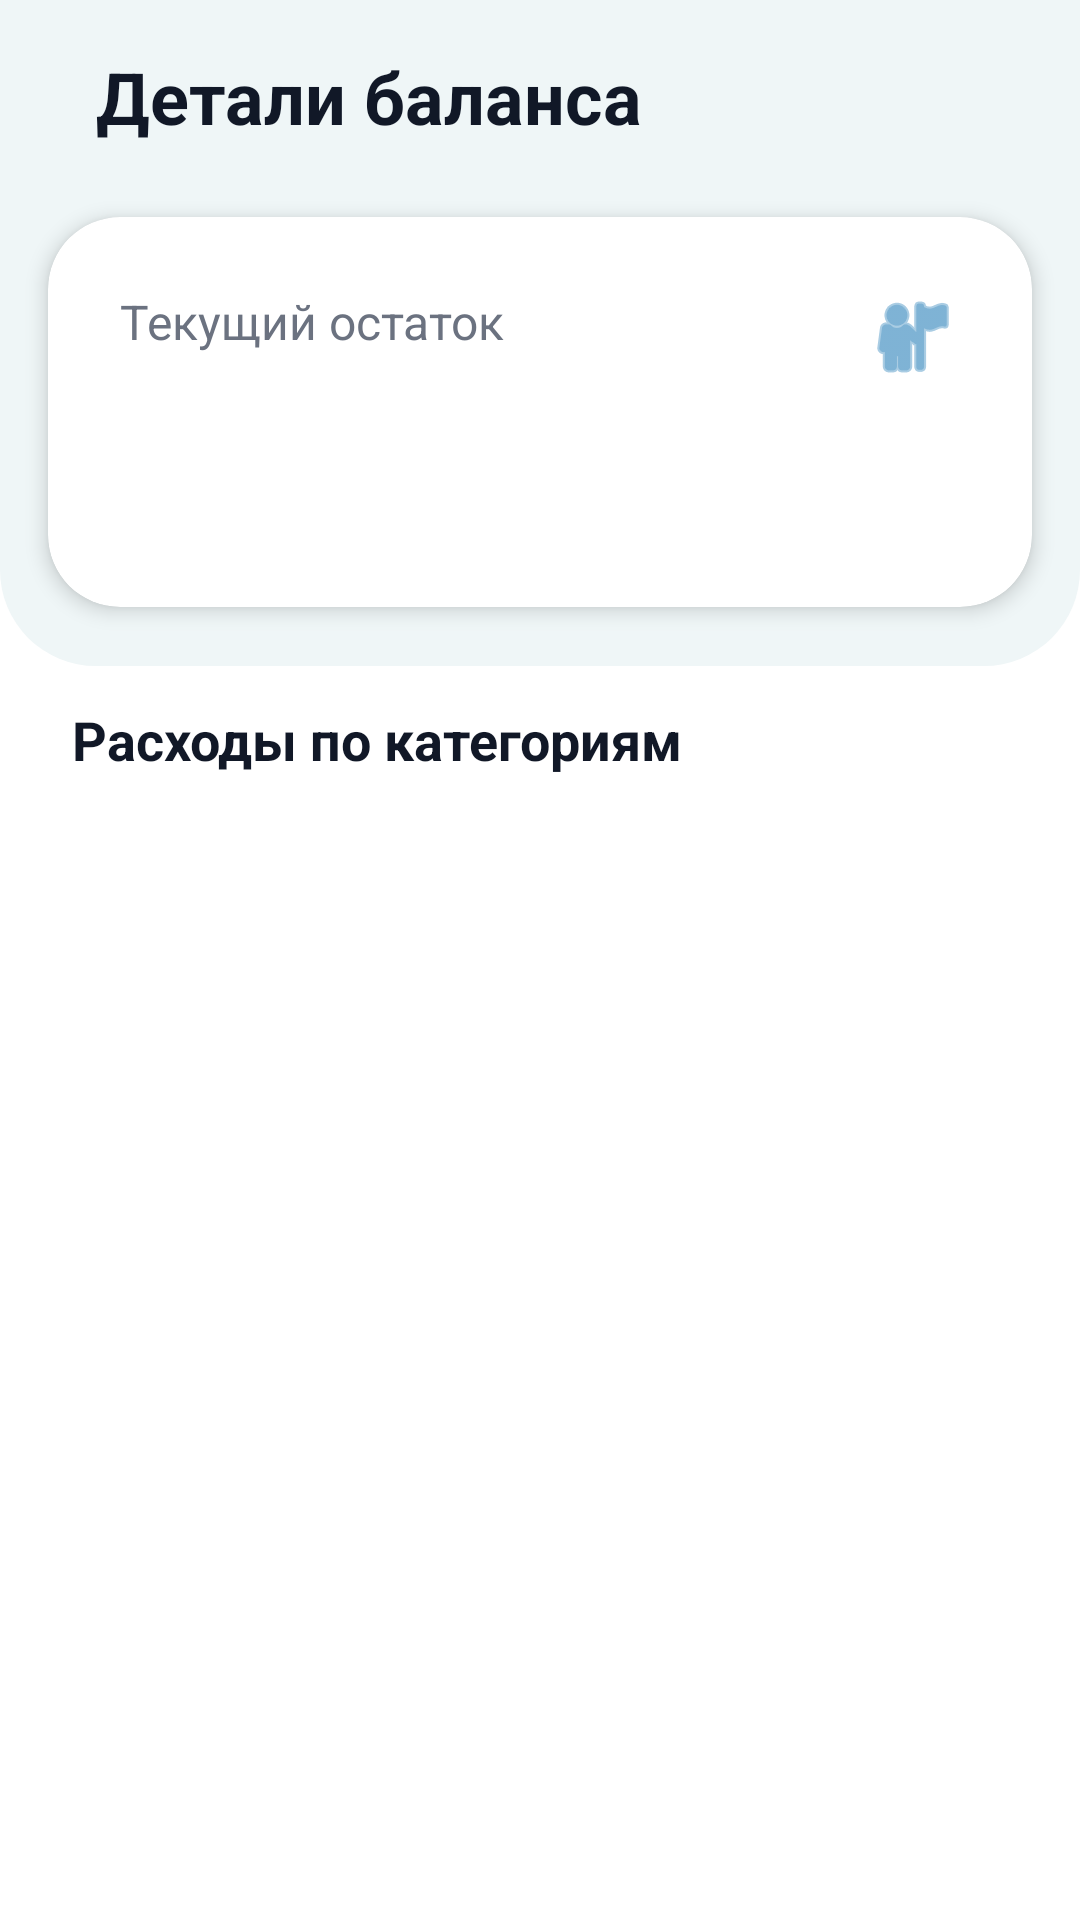

Icons on this 1080*1920 Android screen, each with its box as detection(x1, y1, x2, y2):
myplaces: detection(877, 301, 949, 373)
